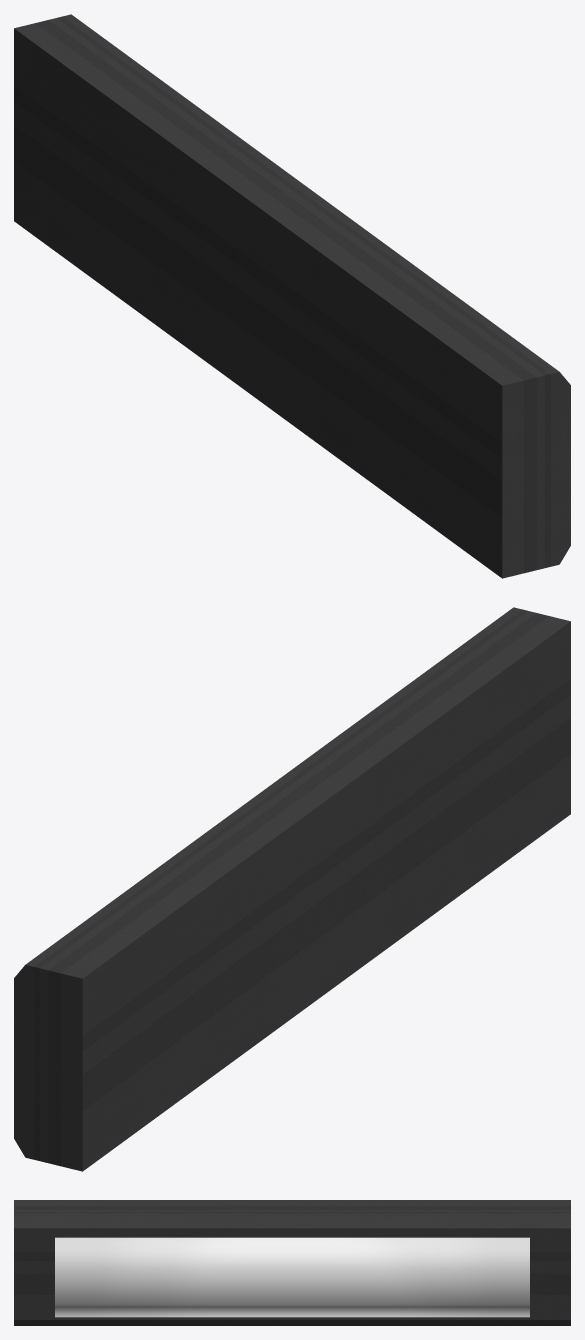
The model's file is lamp.FBX.
3 views of the same model, one above another, from view 1: azimuth 30°, elevation 25°; view 2: azimuth 150°, elevation 25°; view 3: azimuth 270°, elevation 25° (orthographic). The views are drawn at different scales.
Visible parts, largest first — view 1: Box013; view 2: Box013; view 3: Cylinder001, Box013.
Boxes of the visible parts, x1,y1,x2,y2 form: Box013: [14, 14, 570, 578]; Box013: [14, 607, 570, 1171]; Cylinder001: [55, 1237, 529, 1317]; Box013: [14, 1200, 570, 1325].
Bounding box in the file's own units: 0.1983 × 0.3557 × 1.63.
2 materials, 2 textured.
